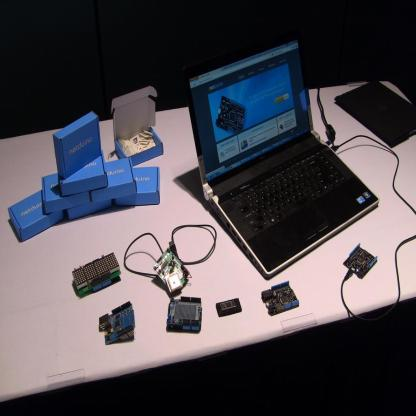board: (188, 41, 373, 270)
